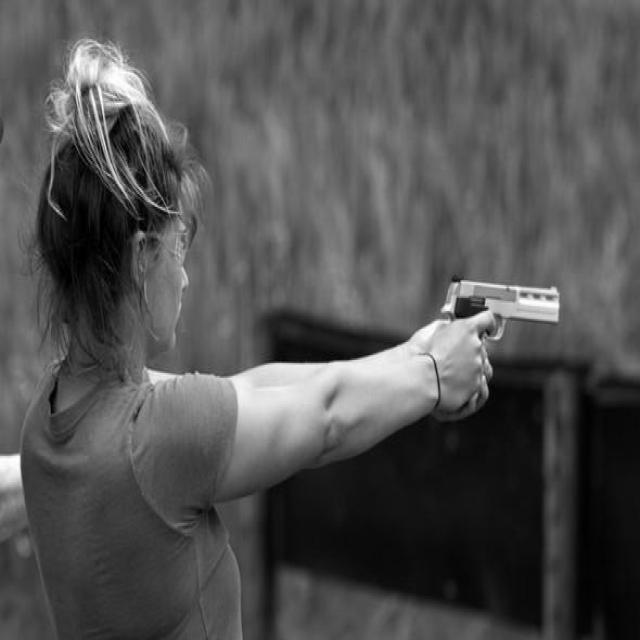Hand-Gun: (440, 232, 567, 418)
